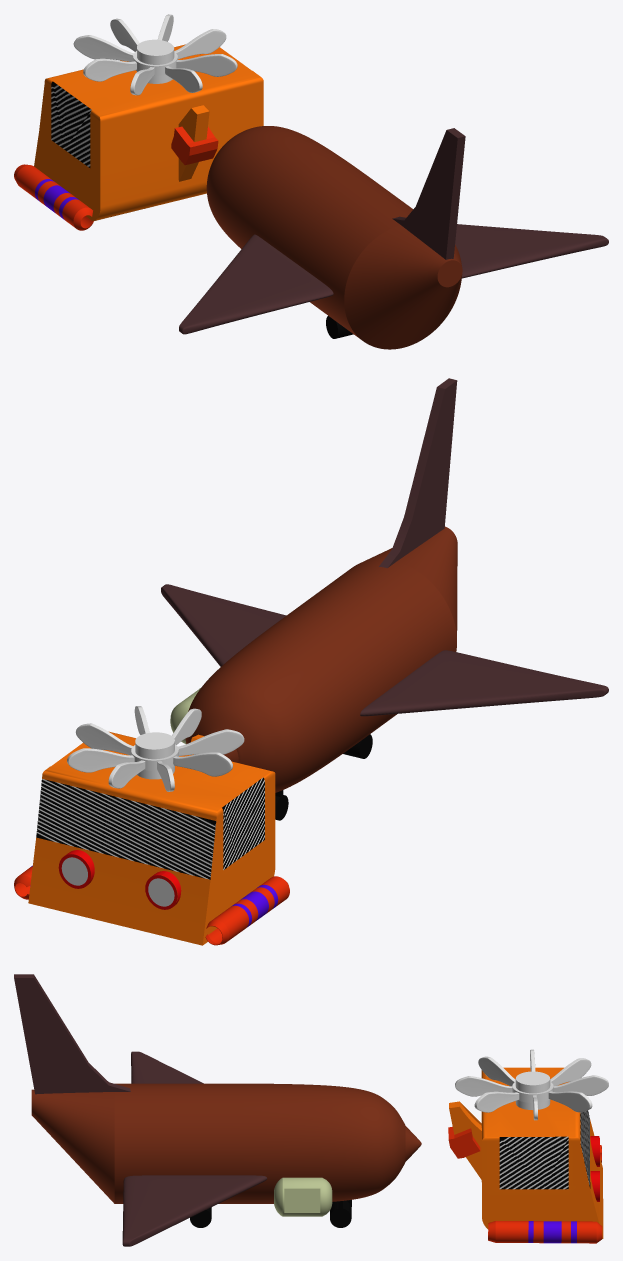
File: Planes.fbx
The picture shows the model from 3 angles, top to bottom: view 1: azimuth 30°, elevation 25°; view 2: azimuth 150°, elevation 25°; view 3: azimuth 270°, elevation 25°; orthographic projection. The views are drawn at different scales.
Parts seen in each view (by area): view 1: Airplane_Body, Helicopter_Body.002, Wing, Wing_2, Top_Wing, Tail.001, Rail.002, Middle_Propeller.001, Propeller.014, Propeller.013, Propeller.010, Propeller.011 (+2 smaller); view 2: Airplane_Body, Helicopter_Body.002, Wing, Top_Wing, Wing_2, Rail.002, Middle_Propeller.001, Propeller.015, Propeller.012, Lights_2.001, Propeller.010, Propeller.011 (+1 smaller); view 3: Airplane_Body, Helicopter_Body.002, Wing_2, Top_Wing, Helicopter_Body_Pannel_Middle, Top_Wing_Broken_Pannel, Rail.003, Tail.001, Wing, Engine, Middle_Propeller.001, Engine_Broken_Pannel (+8 smaller).
Boxes of the visible parts, x1,y1,x2,y2 form: Airplane_Body: (206,126,462,349); Helicopter_Body.002: (34,44,263,221); Wing: (179,234,333,334); Wing_2: (455,224,608,278); Top_Wing: (392,128,465,259); Tail.001: (171,105,218,181); Rail.002: (14,164,93,230); Middle_Propeller.001: (133,39,177,83); Propeller.014: (73,35,133,61); Propeller.013: (176,54,237,76); Propeller.010: (83,58,136,81); Propeller.011: (174,29,226,59); Airplane_Body: (185,526,457,792); Helicopter_Body.002: (28,731,275,945); Wing: (360,650,608,716); Top_Wing: (379,378,457,568); Wing_2: (161,584,286,666); Rail.002: (205,876,289,945); Middle_Propeller.001: (131,732,178,779); Propeller.015: (178,729,244,755); Propeller.012: (67,748,134,772); Lights_2.001: (58,850,94,888); Propeller.010: (173,752,232,776); Propeller.011: (75,723,133,755); Airplane_Body: (31,1083,405,1203); Helicopter_Body.002: (481,1067,603,1238); Wing_2: (122,1175,267,1246); Top_Wing: (14,974,130,1094); Helicopter_Body_Pannel_Middle: (490,1194,589,1221); Top_Wing_Broken_Pannel: (19,992,82,1085); Rail.003: (488,1221,602,1243); Tail.001: (448,1101,481,1179); Wing: (131,1051,203,1083); Engine: (274,1177,332,1216); Middle_Propeller.001: (512,1071,553,1109); Engine_Broken_Pannel: (284,1188,320,1212).
Bounding box in the file's own units: 1255 × 776 × 1730.
